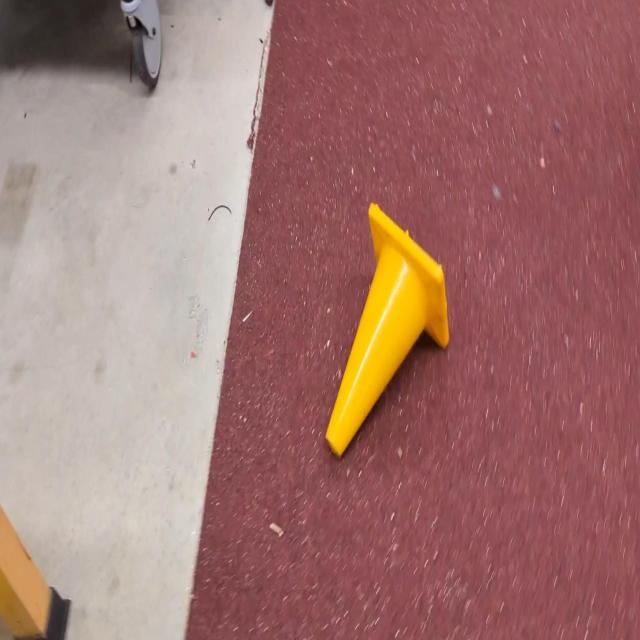frc_cone: (325, 201, 449, 460)
